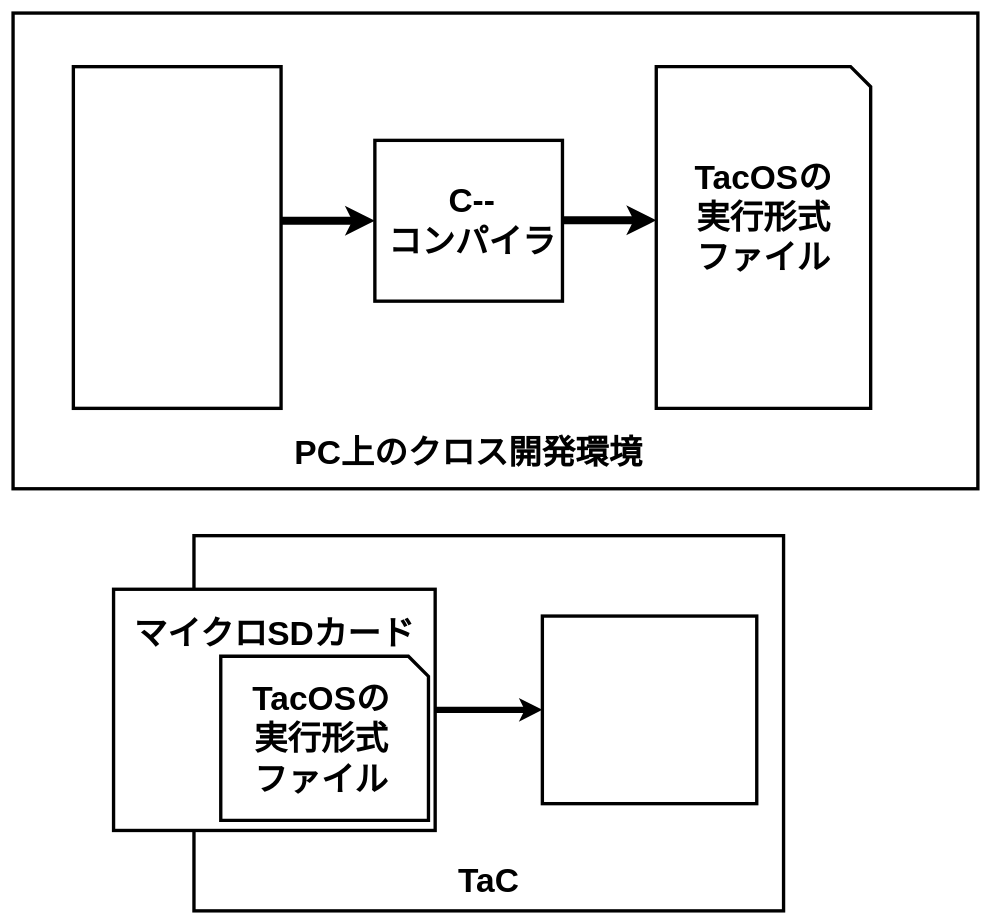
This 991x924 diagram has some shape labels left out. The shapes that lost their labels are listed below. From the top down, each one's centre as x and y in pixels, then its label:
At point 176,237: "アプリ ソースコード （C--言語）".
At point 649,709: "TacOS".
